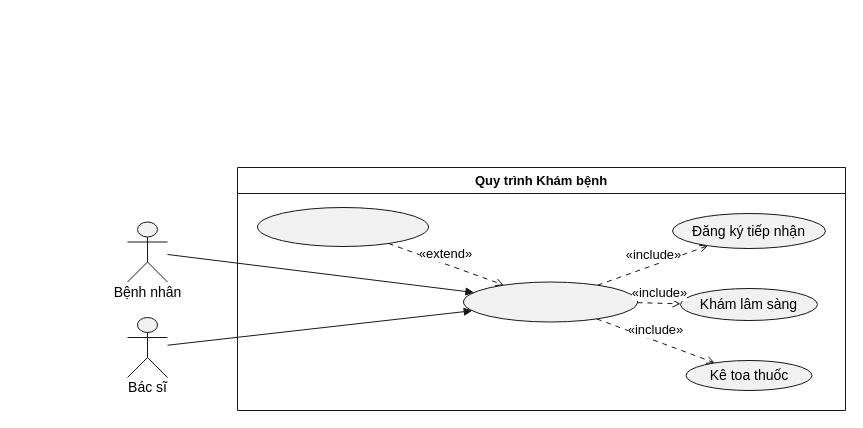
Image size: 863x428. Some labels were removed from this diagram. The shapes that lost their labels are listed below. From the top down, each one's centre as x and y in pixels, then its label:
(x=342, y=226): Chỉ định xét nghiệm
(x=550, y=301): Thực hiện khám bệnh
